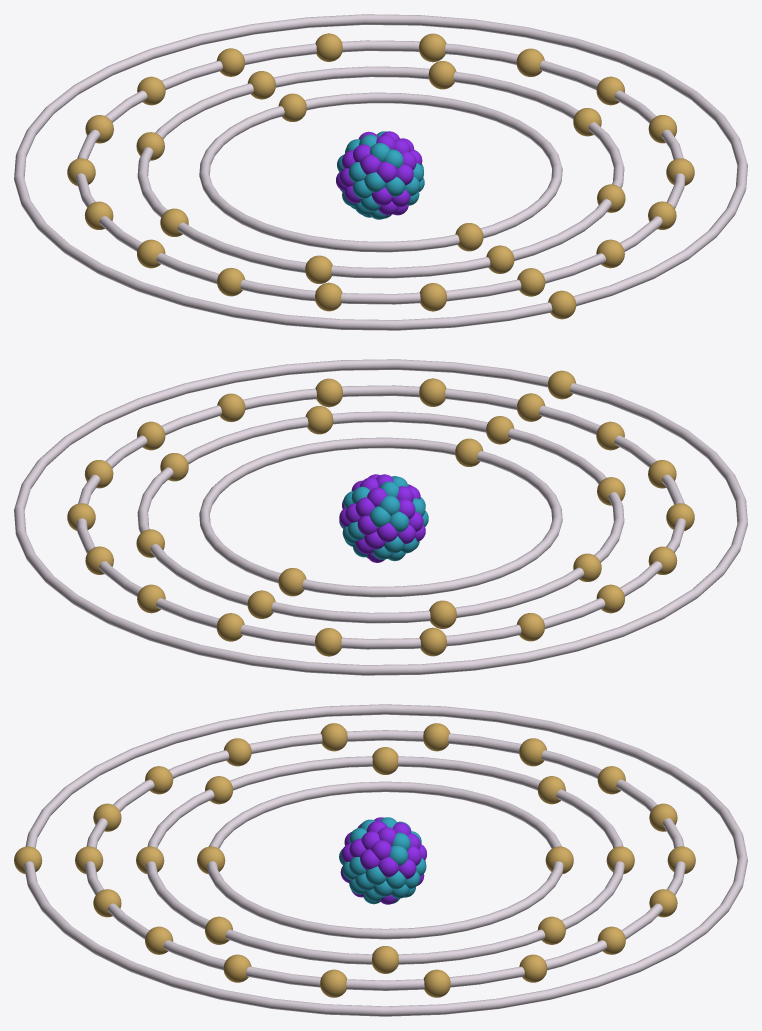
The model's file is cobre.glb.
3 views of the same model, one above another, from view 1: azimuth 30°, elevation 25°; view 2: azimuth 150°, elevation 25°; view 3: azimuth 270°, elevation 25° (orthographic).
Parts seen in each view (by area): view 1: Orbita_4, Orbita_3, Orbita_2, Orbita_1, Nucleo_Completo, Eletron_C3_18, Eletron_C3_9, Eletron_C2_8, Eletron_C3_8, Eletron_C3_17, Eletron_C2_4, Eletron_C4_1 (+22 smaller); view 2: Orbita_4, Orbita_3, Orbita_2, Orbita_1, Nucleo_Completo, Eletron_C3_11, Eletron_C3_2, Eletron_C2_6, Eletron_C3_3, Eletron_C3_12, Eletron_C2_2, Eletron_2 (+22 smaller); view 3: Orbita_4, Orbita_3, Orbita_2, Orbita_1, Nucleo_Completo, Eletron_C3_6, Eletron_C3_5, Eletron_C2_3, Eletron_C3_14, Eletron_C2_7, Eletron_C3_15, Eletron_C3_4 (+22 smaller).
Part boxes in pixels (<box>): Orbita_4: <box>14,14,747,330</box>; Orbita_3: <box>75,40,685,304</box>; Orbita_2: <box>137,66,624,278</box>; Orbita_1: <box>199,92,562,252</box>; Nucleo_Completo: <box>336,131,424,219</box>; Eletron_C3_18: <box>419,283,446,311</box>; Eletron_C3_9: <box>315,33,342,61</box>; Eletron_C2_8: <box>305,255,332,283</box>; Eletron_C3_8: <box>419,33,446,62</box>; Eletron_C3_17: <box>315,282,342,311</box>; Eletron_C2_4: <box>428,61,456,89</box>; Eletron_C4_1: <box>548,290,576,319</box>; Orbita_4: <box>14,359,747,675</box>; Orbita_3: <box>76,385,686,649</box>; Orbita_2: <box>137,411,624,623</box>; Orbita_1: <box>199,437,562,597</box>; Nucleo_Completo: <box>339,474,428,562</box>; Eletron_C3_11: <box>315,628,342,656</box>; Eletron_C3_2: <box>419,378,446,406</box>; Eletron_C2_6: <box>429,600,456,628</box>; Eletron_C3_3: <box>315,378,342,407</box>; Eletron_C3_12: <box>419,627,446,656</box>; Eletron_C2_2: <box>305,406,333,434</box>; Eletron_2: <box>278,568,306,596</box>; Orbita_4: <box>24,704,747,1016</box>; Orbita_3: <box>85,730,685,990</box>; Orbita_2: <box>146,756,624,964</box>; Orbita_1: <box>207,781,563,939</box>; Nucleo_Completo: <box>339,817,426,904</box>; Eletron_C3_6: <box>423,969,450,997</box>; Eletron_C3_5: <box>320,969,346,997</box>; Eletron_C2_3: <box>372,946,398,973</box>; Eletron_C3_14: <box>423,723,449,751</box>; Eletron_C2_7: <box>372,747,398,774</box>; Eletron_C3_15: <box>320,723,347,751</box>; Eletron_C3_4: <box>223,954,251,982</box>.
Size of the model in its own units: 4.16 by 0.506 by 4.21.
